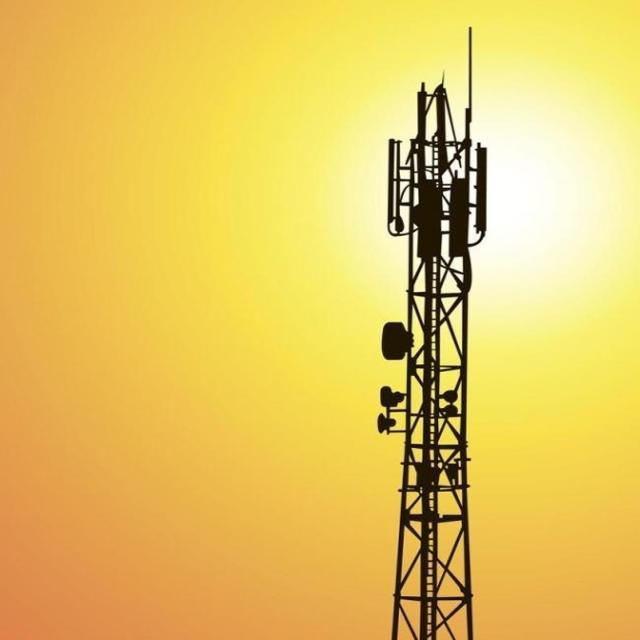non-critical vegetation: (380, 90, 493, 636)
